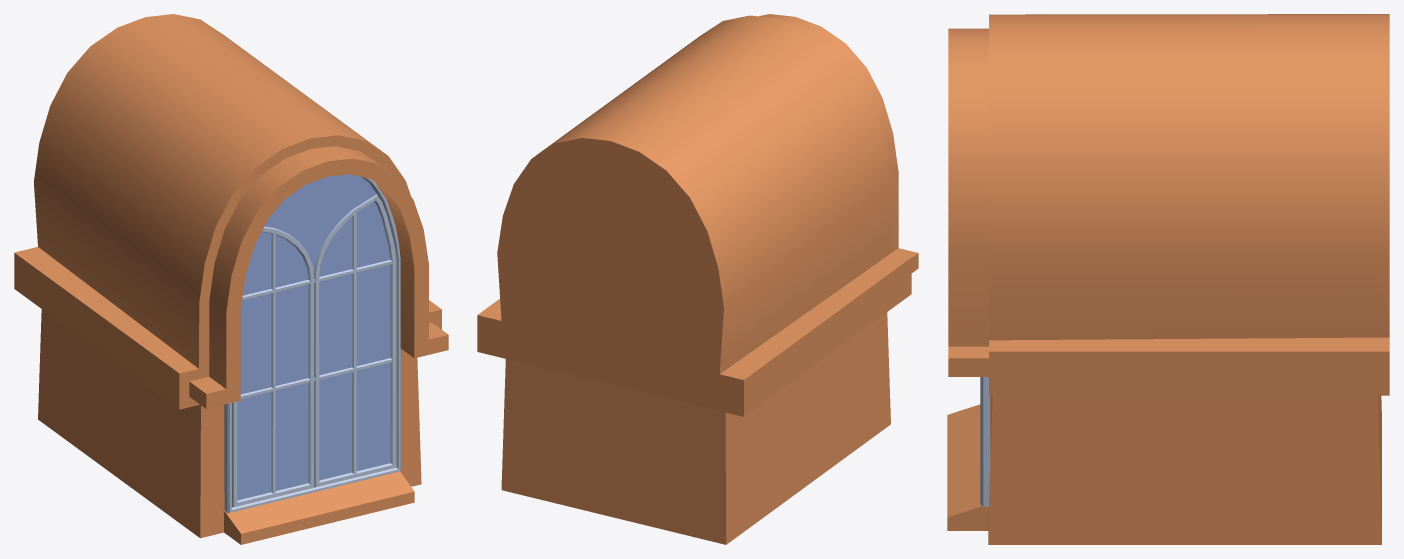
File: SP_House08_Window05.fbx
3 views of the same model, side by side, from view 1: azimuth 30°, elevation 25°; view 2: azimuth 150°, elevation 25°; view 3: azimuth 270°, elevation 25° (orthographic). The views are drawn at different scales.
Visible parts, largest first — view 1: SP_House08_Window05; view 2: SP_House08_Window05; view 3: SP_House08_Window05.
Part boxes in pixels (x1,y1,x2,y2): SP_House08_Window05: (14, 14, 448, 544); SP_House08_Window05: (477, 14, 918, 544); SP_House08_Window05: (947, 14, 1389, 544).
Size of the model in its own units: 1.8 by 2.45 by 2.17.
